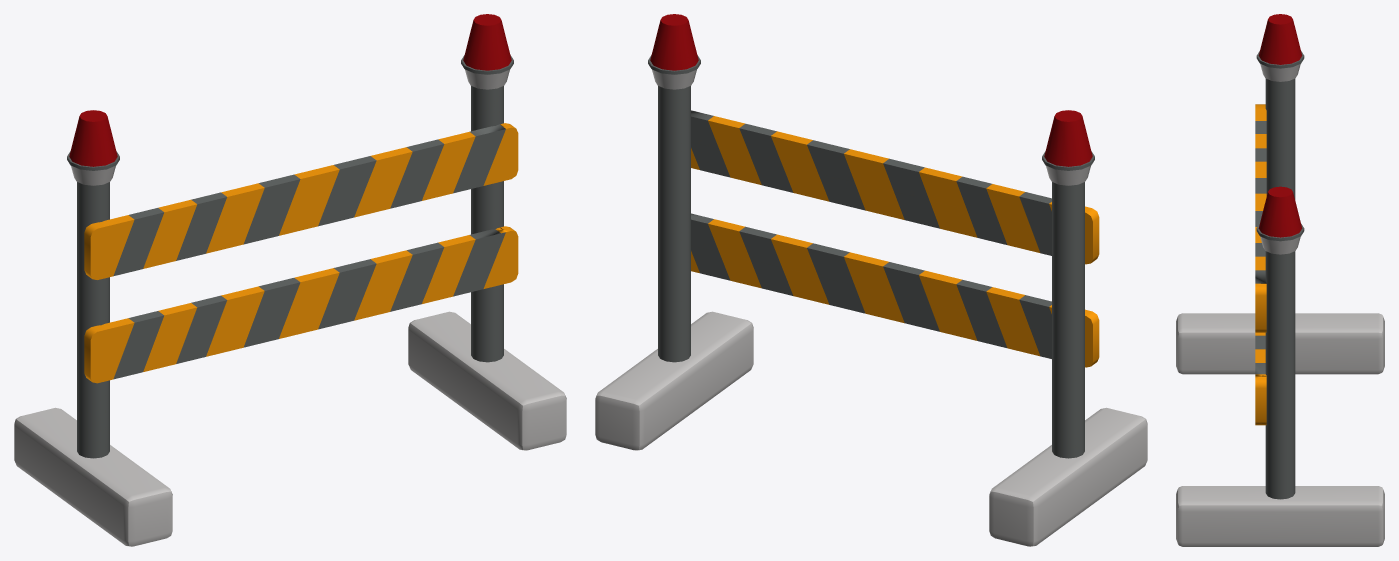
The model's file is hurdles2-transformed.glb.
The picture shows the model from 3 angles, left to right: view 1: azimuth 30°, elevation 25°; view 2: azimuth 150°, elevation 25°; view 3: azimuth 270°, elevation 25°; orthographic projection. The views are drawn at different scales.
Parts seen in each view (by area): view 1: barricate2; view 2: barricate2; view 3: barricate2.
Boxes of the visible parts, bbox=[...] form: barricate2: bbox=[14, 14, 566, 546]; barricate2: bbox=[595, 14, 1147, 546]; barricate2: bbox=[1176, 14, 1384, 546].
Size of the model in its own units: 1.16 by 0.9641 by 0.5252.
3 materials, 3 textured.
